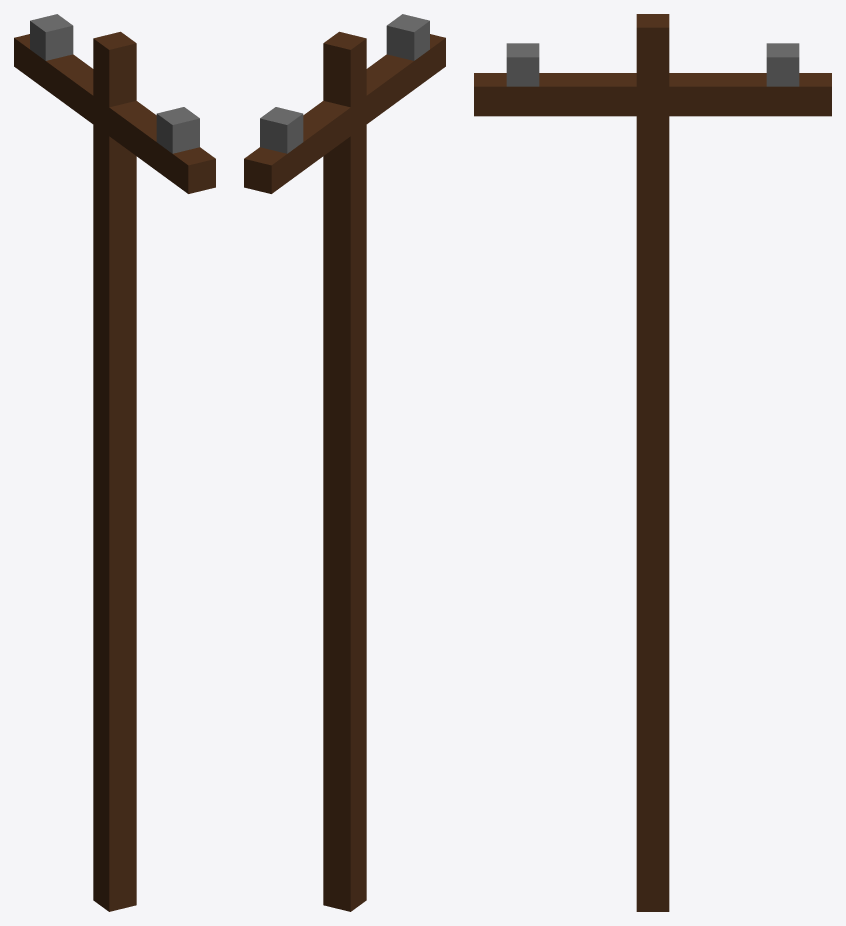
The model's file is power_line.dae.
3 views of the same model, side by side, from view 1: azimuth 30°, elevation 25°; view 2: azimuth 150°, elevation 25°; view 3: azimuth 270°, elevation 25° (orthographic). The views are drawn at different scales.
Visible parts, largest first — view 1: power_line; view 2: power_line; view 3: power_line.
Part boxes in pixels (x1=…): power_line: x1=14, y1=14, x2=215, y2=911; power_line: x1=244, y1=14, x2=445, y2=911; power_line: x1=474, y1=14, x2=831, y2=911.
Bounding box in the file's own units: 0.2 × 6 × 2.2.
1 material, 1 textured.
